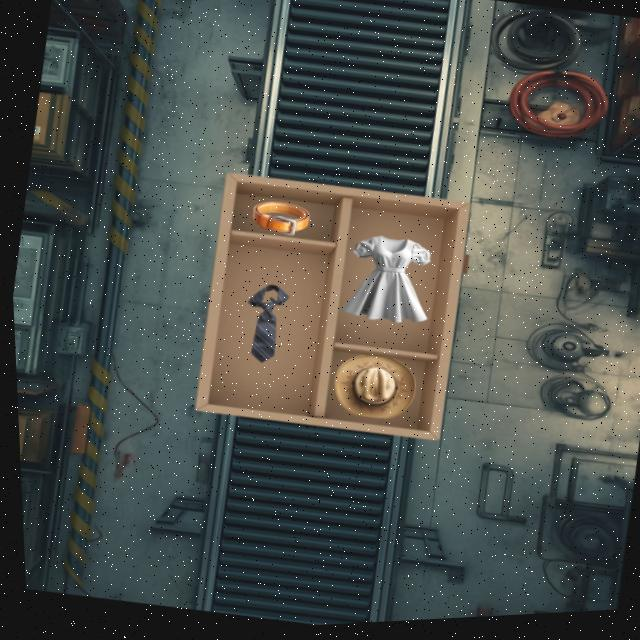belt: (252, 201, 309, 235)
dress: (343, 236, 430, 322)
hat: (334, 355, 415, 418)
tie: (248, 284, 288, 362)
